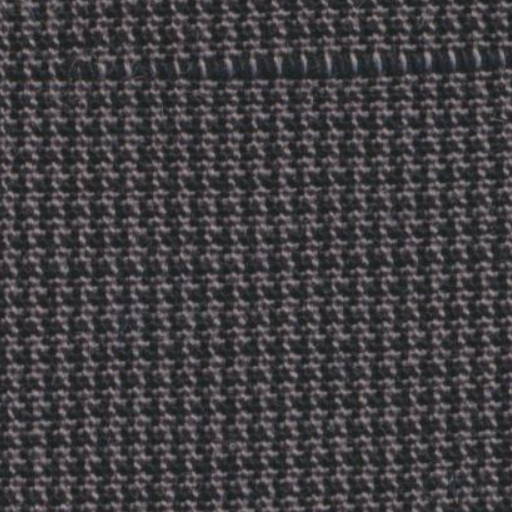DaiSha: (40, 36, 504, 88)
